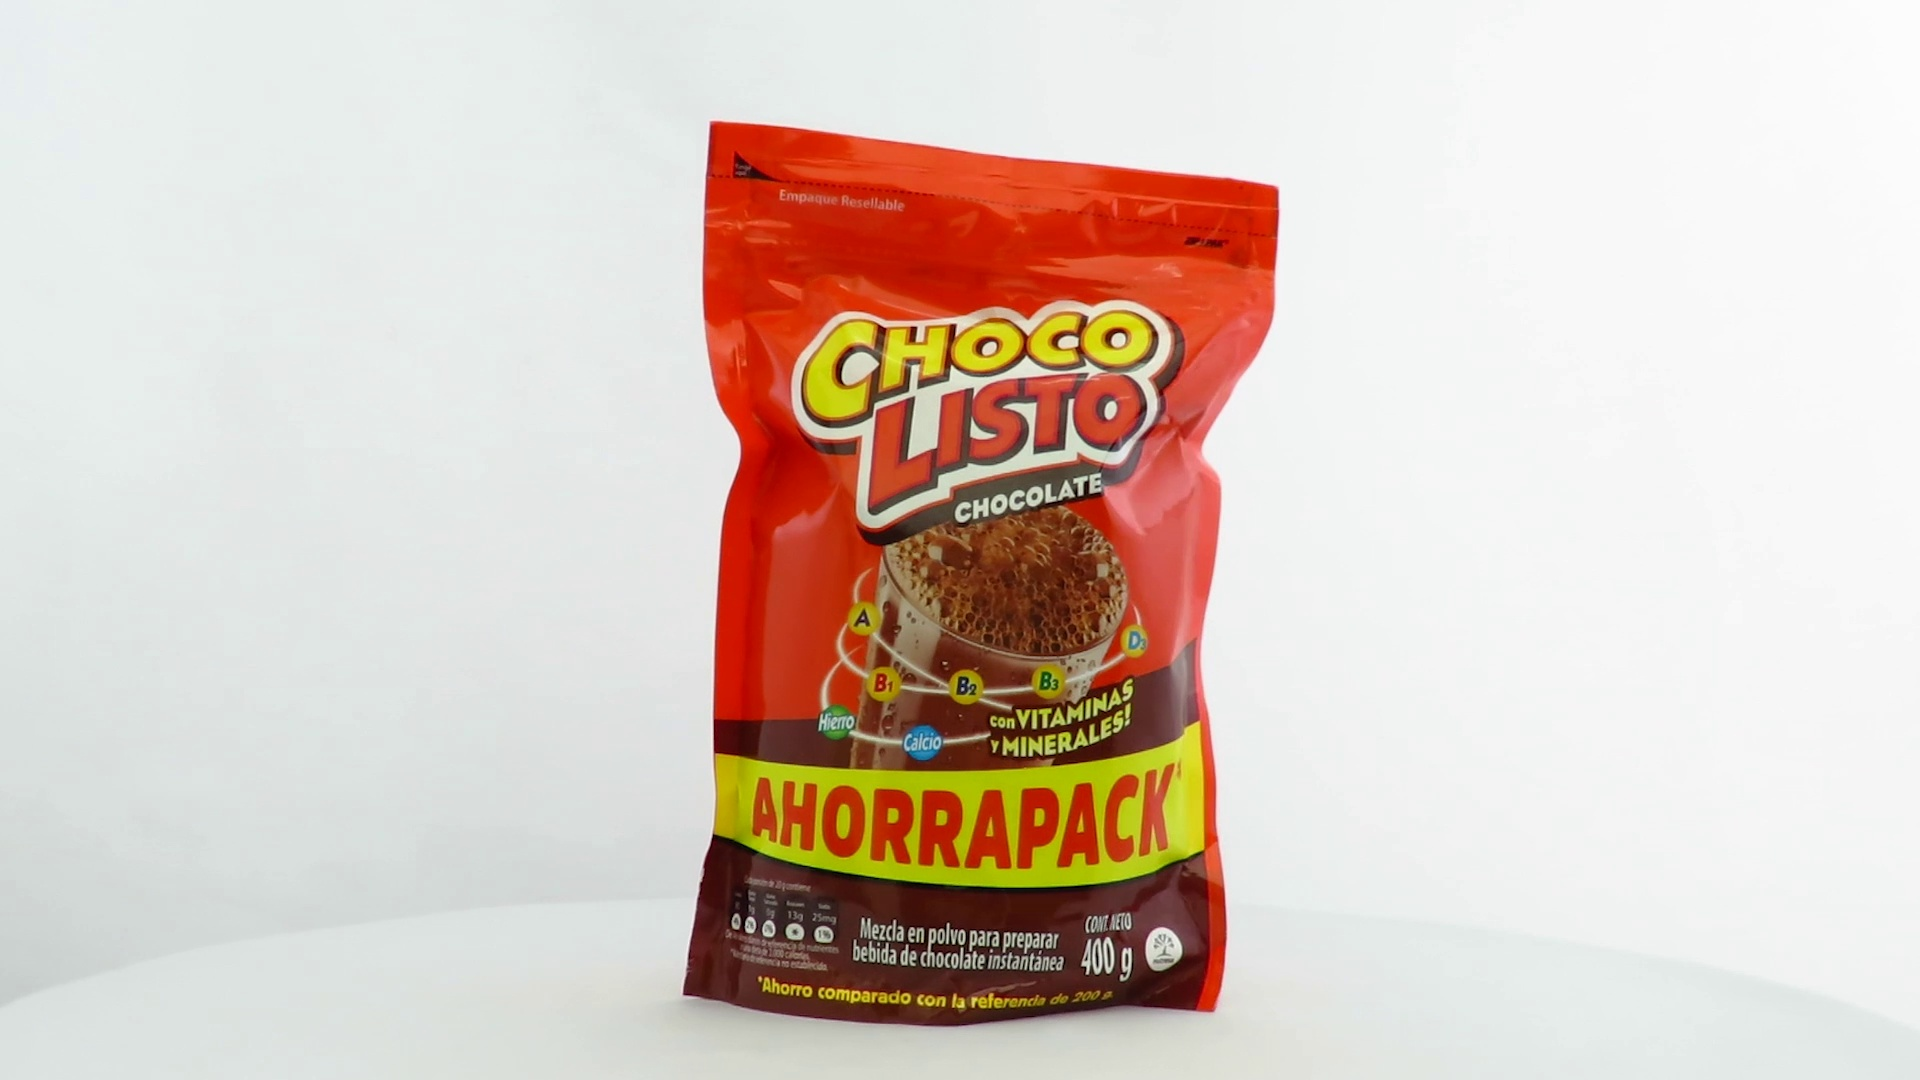COL0170103DYP40000: (678, 116, 1284, 1033)
